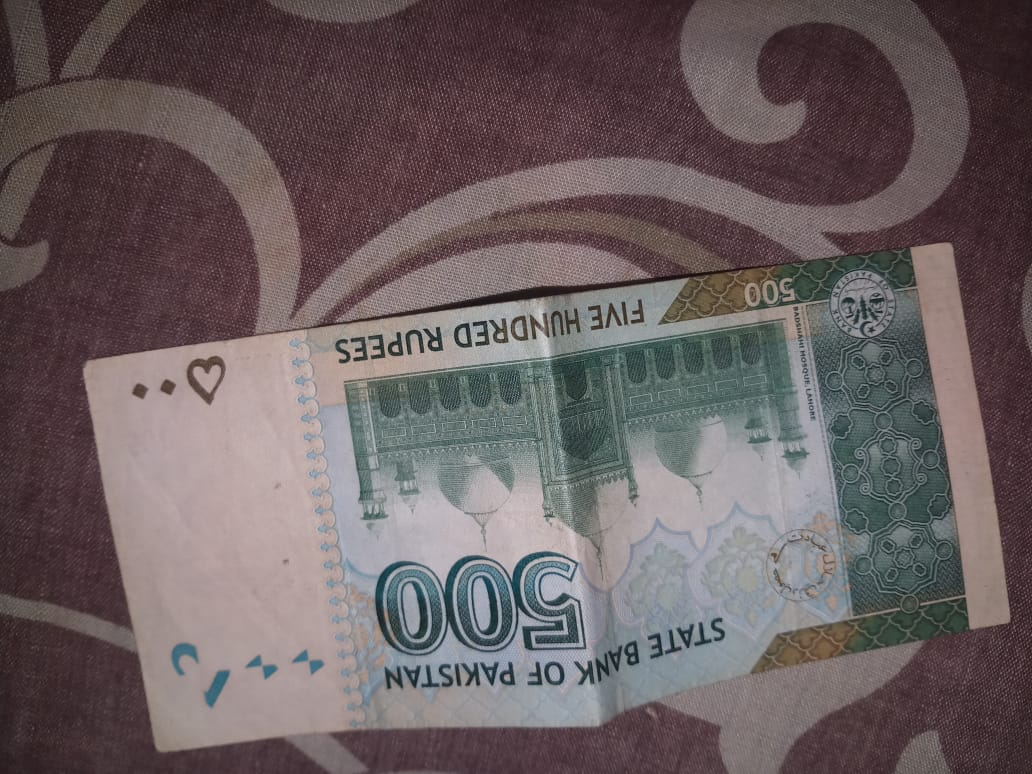500 rupee: (65, 262, 1015, 751)
